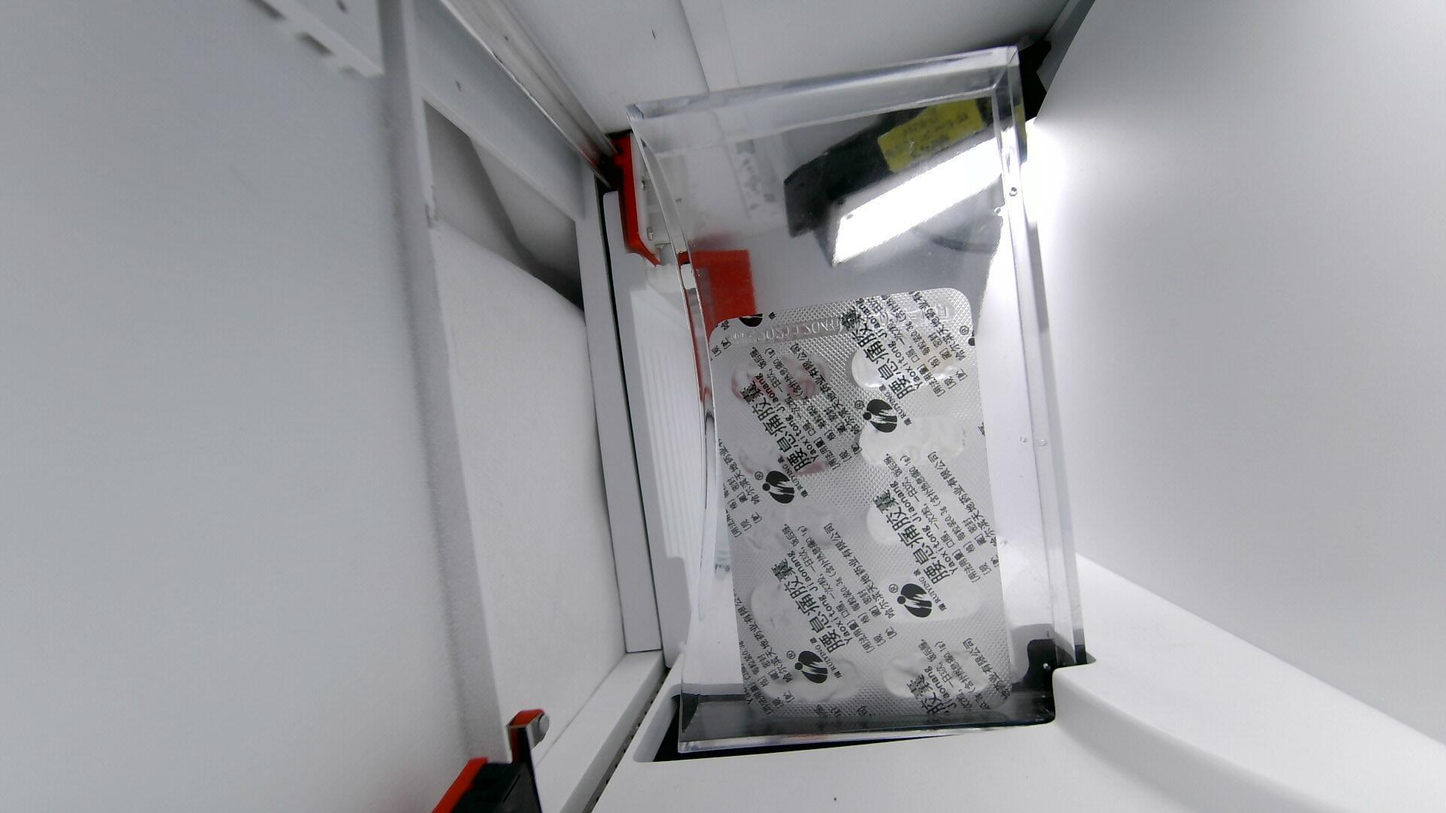Pill Back: (738, 577, 859, 635), (848, 336, 967, 391), (729, 419, 840, 477), (858, 410, 969, 467), (742, 501, 849, 557), (878, 571, 989, 623), (867, 493, 972, 547), (755, 655, 866, 705), (727, 356, 834, 400), (884, 652, 996, 693)
